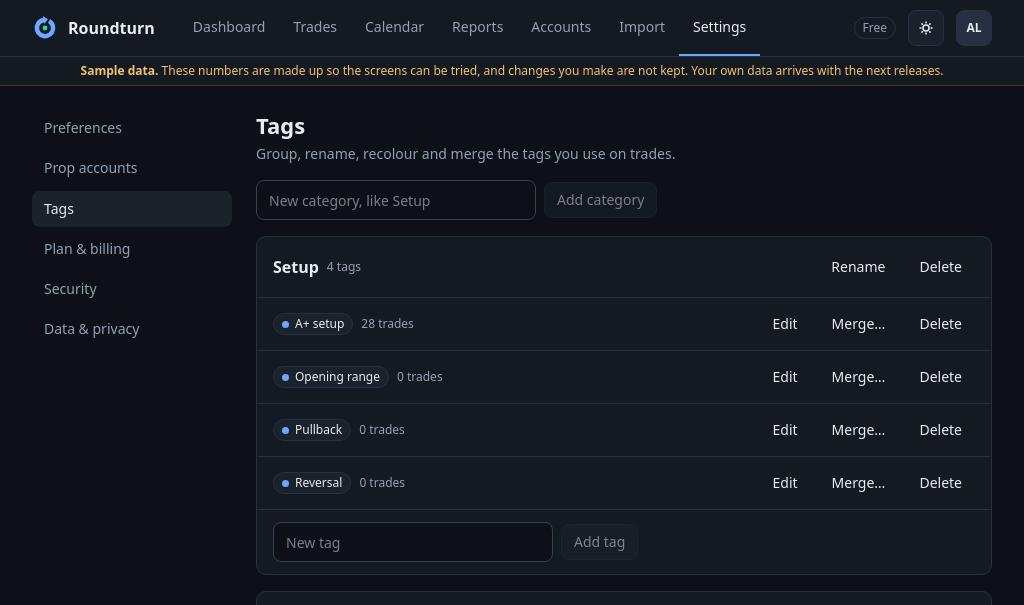
the tags screen › adds a category, and says so in words when the name is taken (in any capitalization) or blank
Expected: the heading "Tags" is shown, [256,110,305,140]
Expected: the element named "Category Setup" is shown, [256,236,992,575]
Type "Market regime" into the field labelled "New category" at (396, 200), box [256,180,536,220]
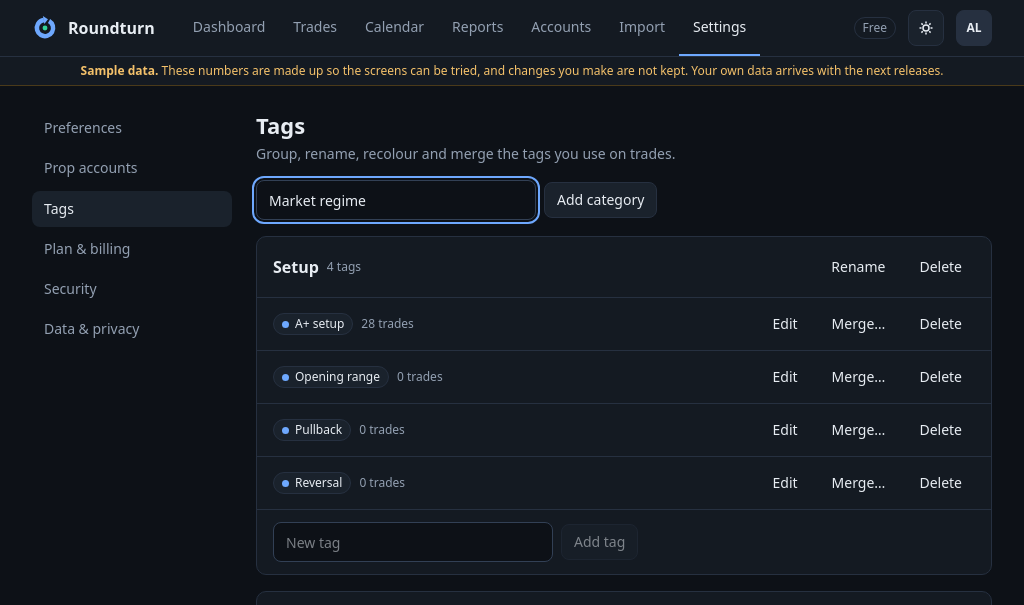
Click the button "Add category" at (601, 200), box [544,182,657,218]
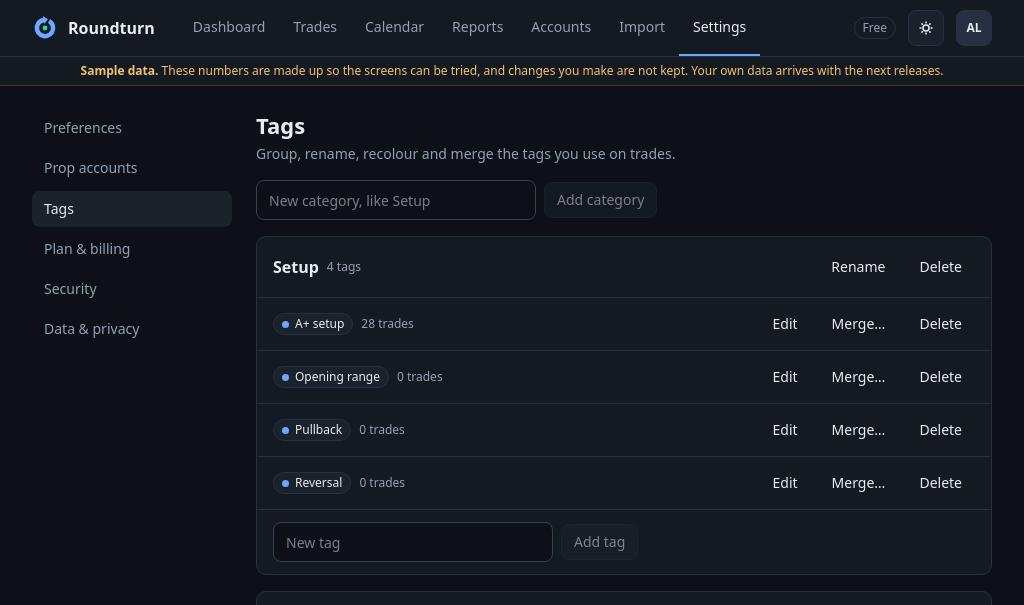
Now the field labelled "New category" is empty
Type "setup" into the field labelled "New category" at (396, 200), box [256,180,536,220]
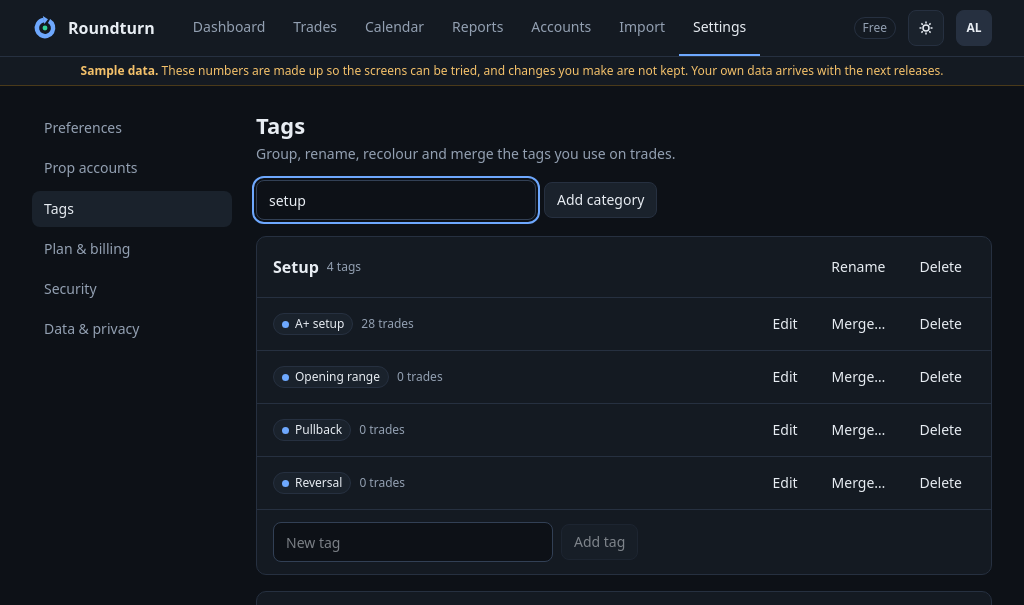
Click the button "Add category" at (601, 200), box [544,182,657,218]
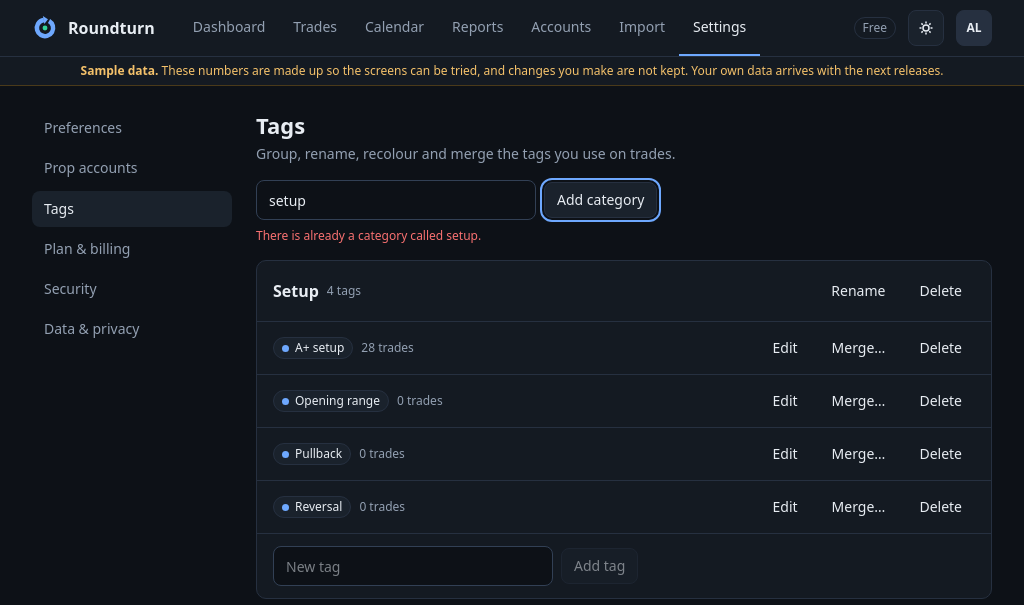
Now the message reads "There is already a category called setup.", box [256,227,481,244]
